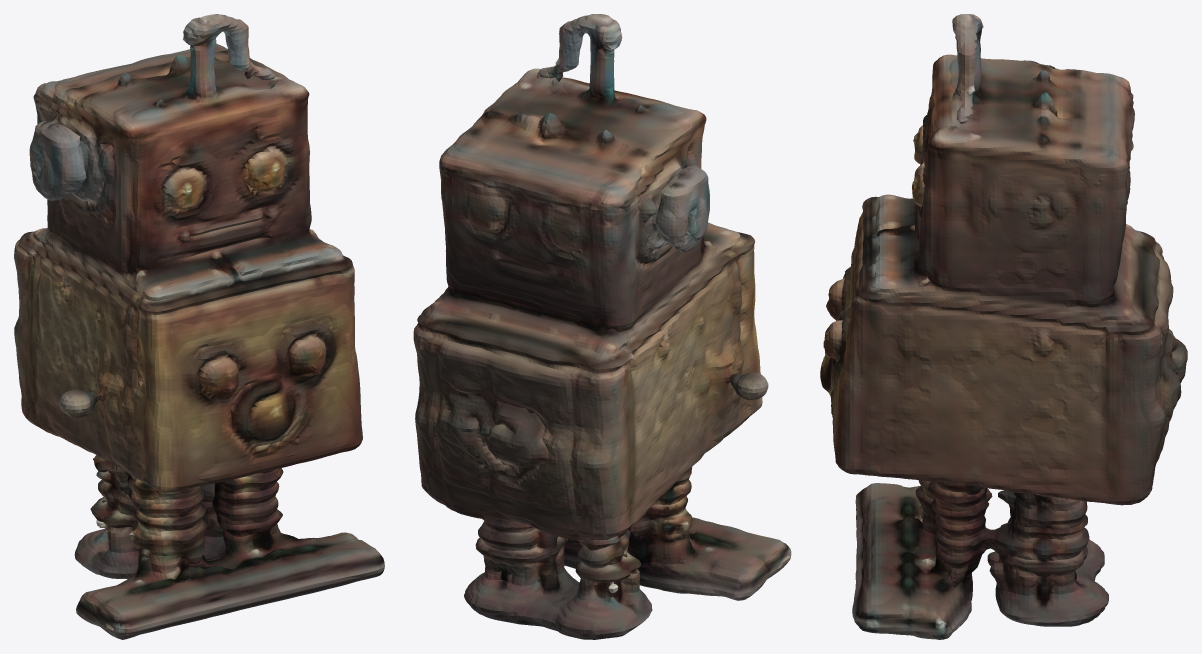
The model's file is robot_steampunk.glb.
The picture shows the model from 3 angles, left to right: view 1: azimuth 30°, elevation 25°; view 2: azimuth 150°, elevation 25°; view 3: azimuth 270°, elevation 25°; orthographic projection.
Visible parts, largest first — view 1: geometry_0; view 2: geometry_0; view 3: geometry_0.
Boxes of the visible parts, x1,y1,x2,y2 form: geometry_0: [14, 14, 384, 639]; geometry_0: [413, 14, 791, 639]; geometry_0: [820, 14, 1187, 639].
Bounding box in the file's own units: 0.5201 × 1 × 0.5758.
